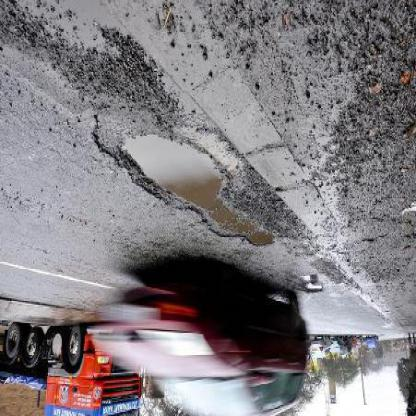pothole: (115, 134, 280, 253), (300, 277, 326, 298)
